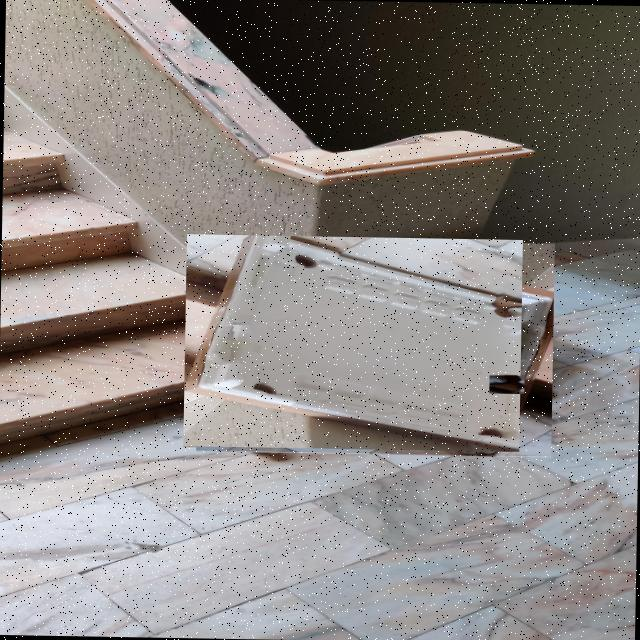Corrugated carton: (184, 236, 519, 451), (490, 376, 523, 394)
Styrofoam piece: (197, 238, 553, 455)
